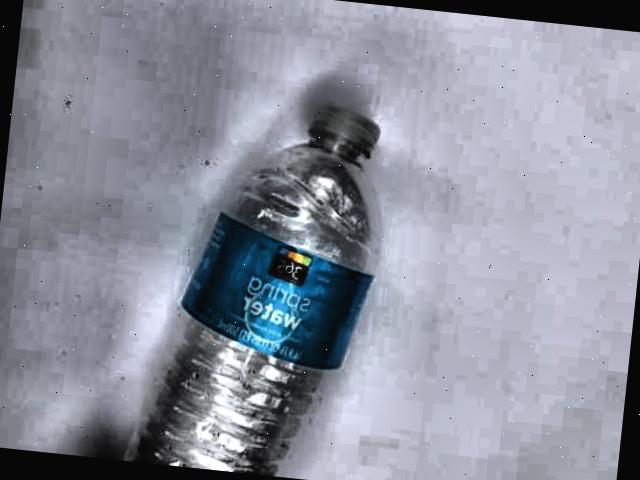Bottles: (117, 56, 427, 480)
